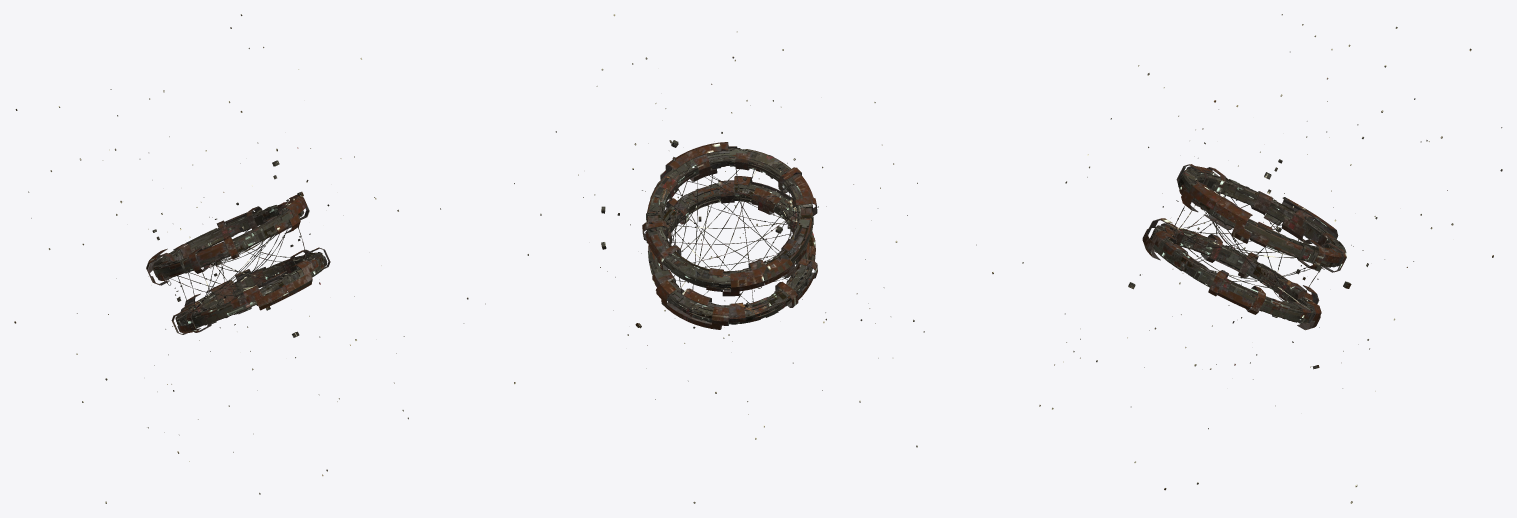
File: station.glb
3 renders of one model, left to right at view 1: azimuth 30°, elevation 25°; view 2: azimuth 150°, elevation 25°; view 3: azimuth 270°, elevation 25°, orthographic. The views are drawn at different scales.
Parts seen in each view (by area): view 1: SpaceStation004_low_4, SpaceStation005_low_5, SpaceStation007_low_7, SpaceStation006_low_6, SpaceStation002_low_2; view 2: SpaceStation005_low_5, SpaceStation004_low_4, SpaceStation007_low_7, SpaceStation006_low_6, SpaceStation002_low_2; view 3: SpaceStation005_low_5, SpaceStation004_low_4, SpaceStation006_low_6, SpaceStation007_low_7, SpaceStation002_low_2.
Part boxes in pixels (x1,y1,x2,y2): SpaceStation004_low_4: [171, 247, 330, 334]; SpaceStation005_low_5: [146, 195, 309, 285]; SpaceStation007_low_7: [152, 201, 304, 279]; SpaceStation006_low_6: [175, 252, 327, 328]; SpaceStation002_low_2: [164, 226, 313, 316]; SpaceStation005_low_5: [642, 142, 817, 296]; SpaceStation004_low_4: [646, 176, 817, 329]; SpaceStation007_low_7: [646, 147, 813, 289]; SpaceStation006_low_6: [648, 183, 815, 324]; SpaceStation002_low_2: [663, 169, 807, 306]; SpaceStation005_low_5: [1176, 164, 1346, 272]; SpaceStation004_low_4: [1142, 218, 1321, 330]; SpaceStation006_low_6: [1150, 225, 1315, 323]; SpaceStation007_low_7: [1177, 169, 1346, 267]; SpaceStation002_low_2: [1163, 190, 1322, 308].
Bounding box in the file's own units: 17.32 × 15.51 × 14.37.
3 materials, 3 textured.
